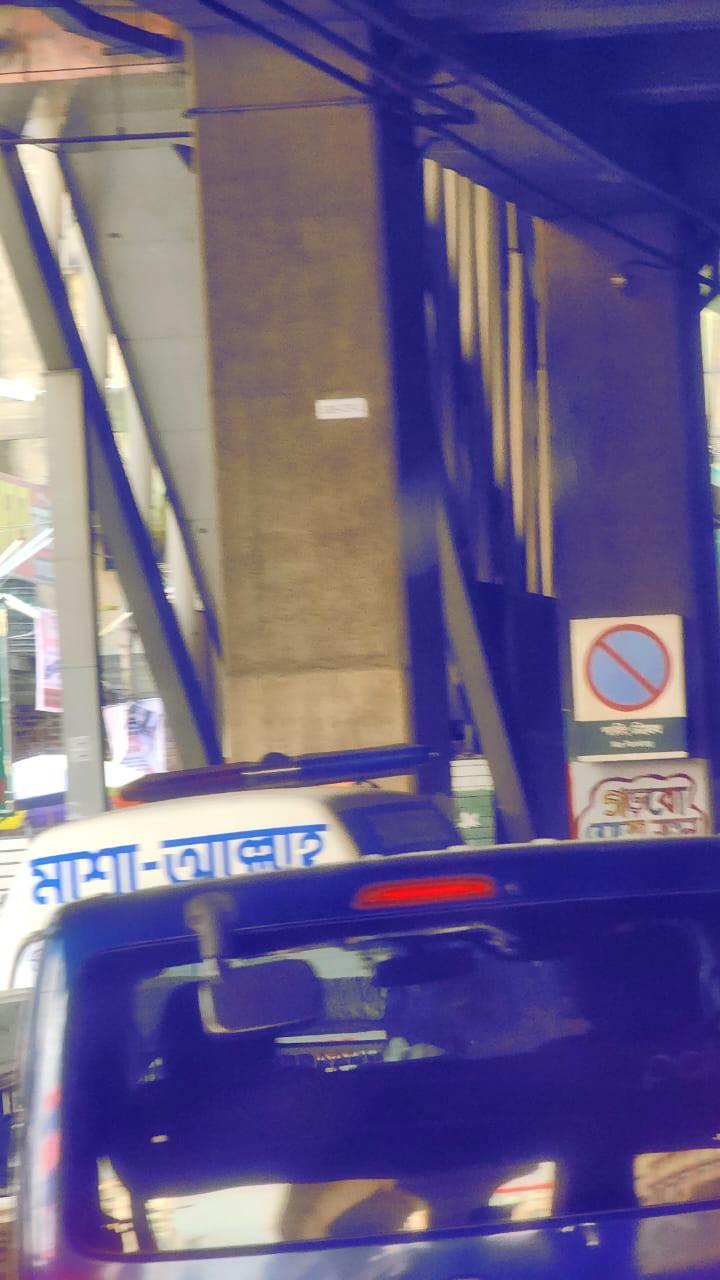No Parking: (570, 613, 687, 725)
